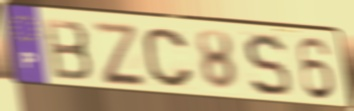6: (296, 35, 338, 103)
8: (196, 28, 237, 95)
B: (41, 16, 95, 83)
C: (141, 26, 196, 90)
S: (242, 31, 294, 100)
Z: (89, 19, 148, 86)
